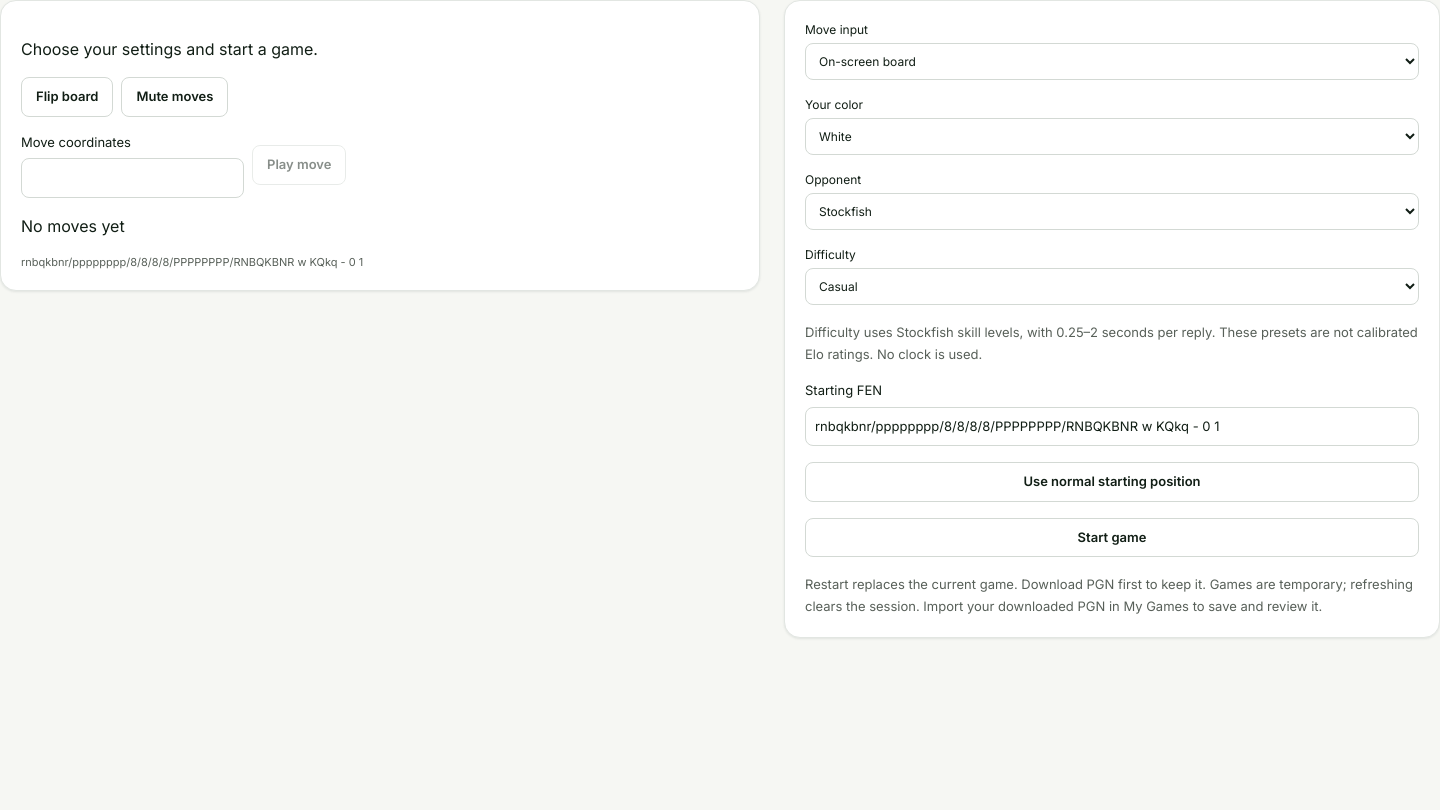
Test: plays only the human side, rejects illegal moves, receives one engine reply, and resigns
Click the button "Start game" at coordinates (1112, 537), box [805, 518, 1419, 557]
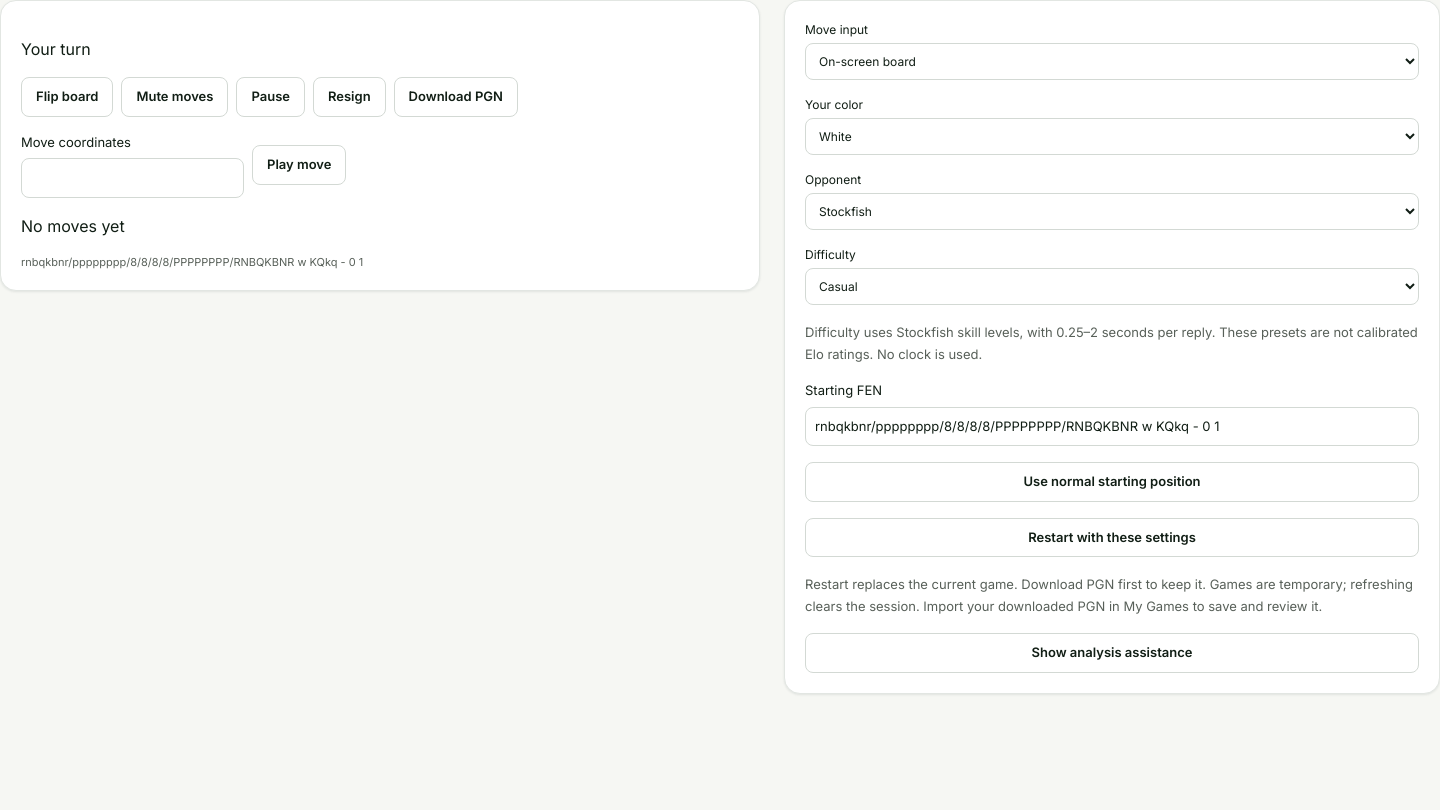
Type "e2e5" into the field labelled "Move coordinates" at coordinates (132, 178), box [21, 158, 244, 198]
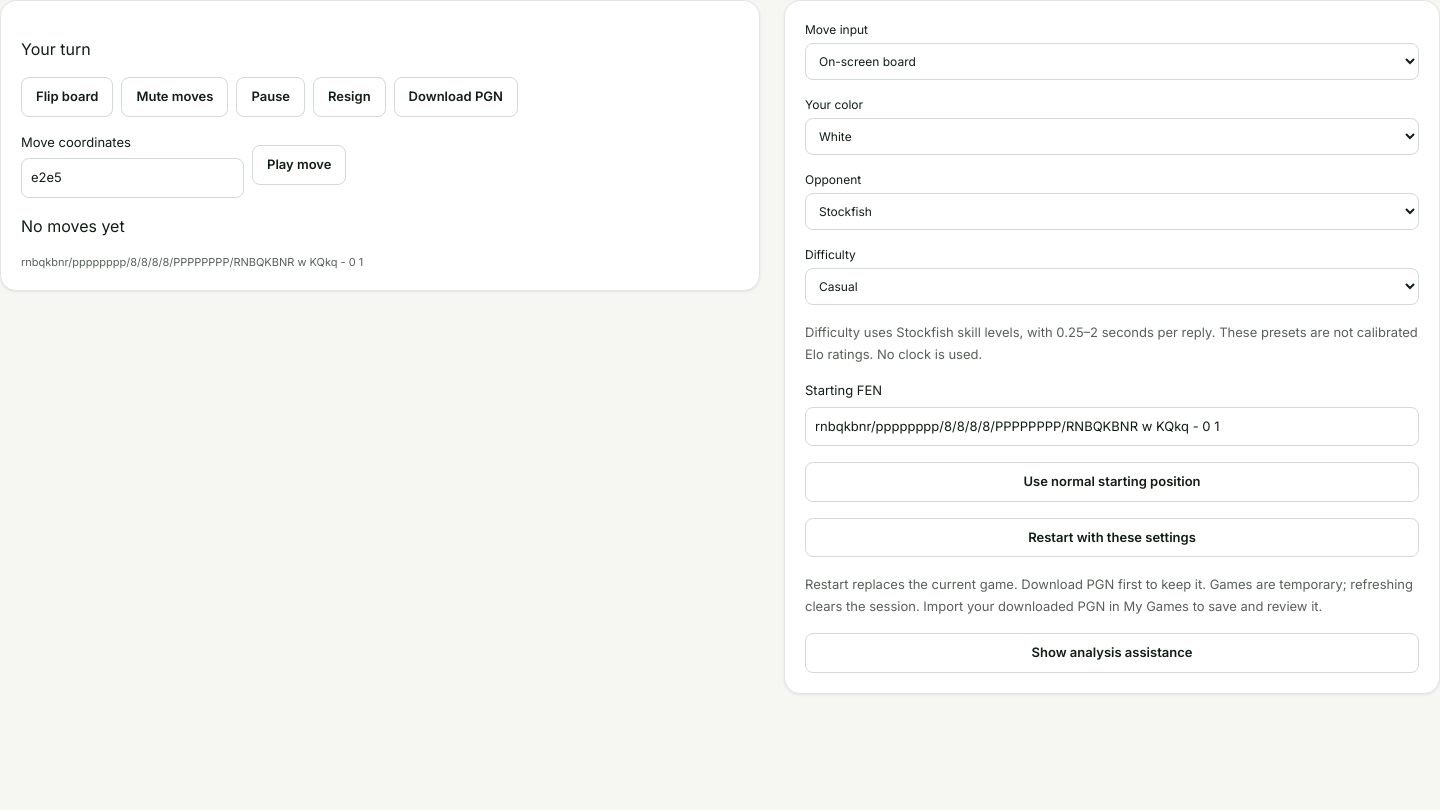
Click the button "Play move" at coordinates (299, 165), box [252, 145, 346, 185]
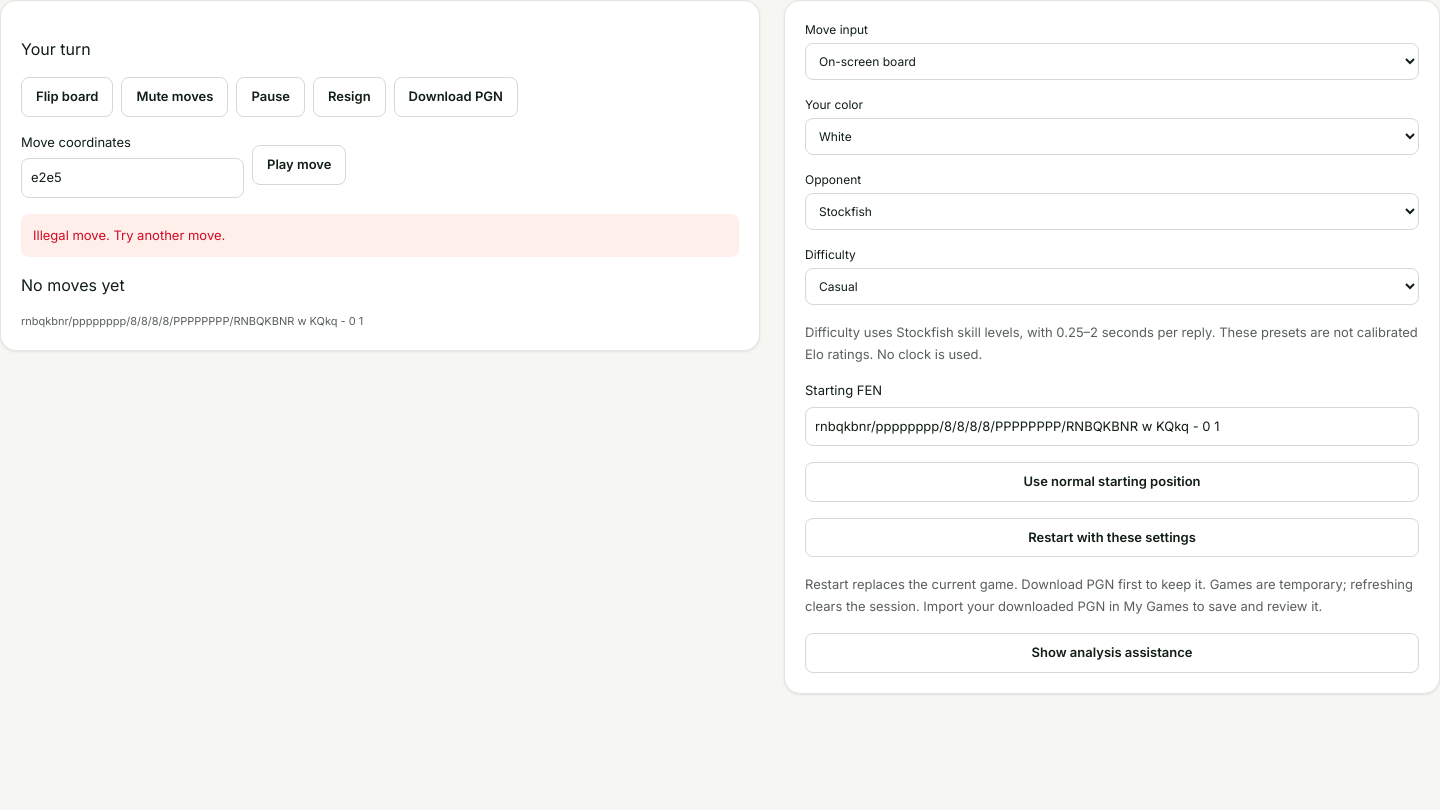
Result: the message "Illegal move. Try another move." is shown at [21, 214, 739, 257]
Replace the text in the field labelled "Move coordinates" with "e2e4" at coordinates (132, 178), box [21, 158, 244, 198]
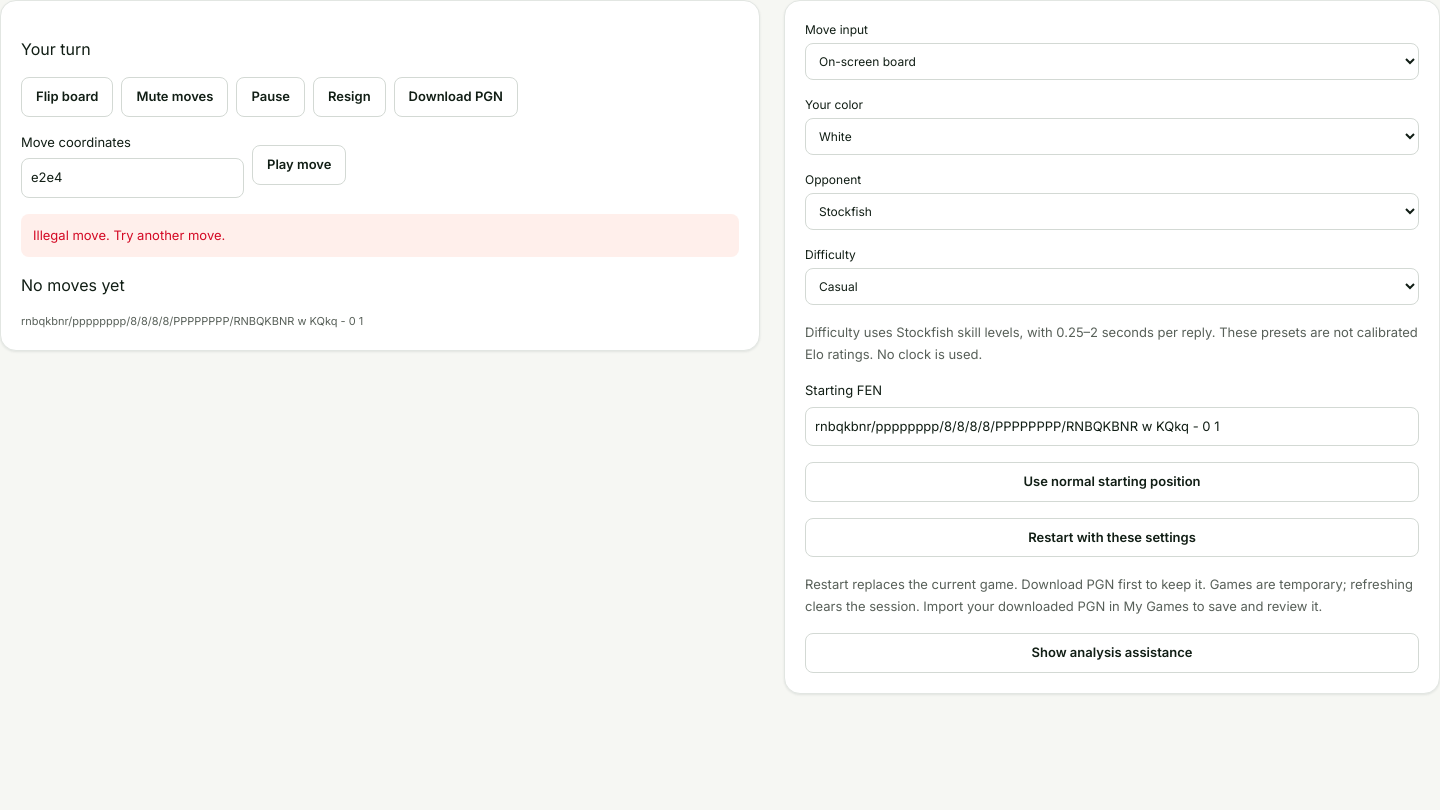
Click the button "Play move" at coordinates (299, 165), box [252, 145, 346, 185]
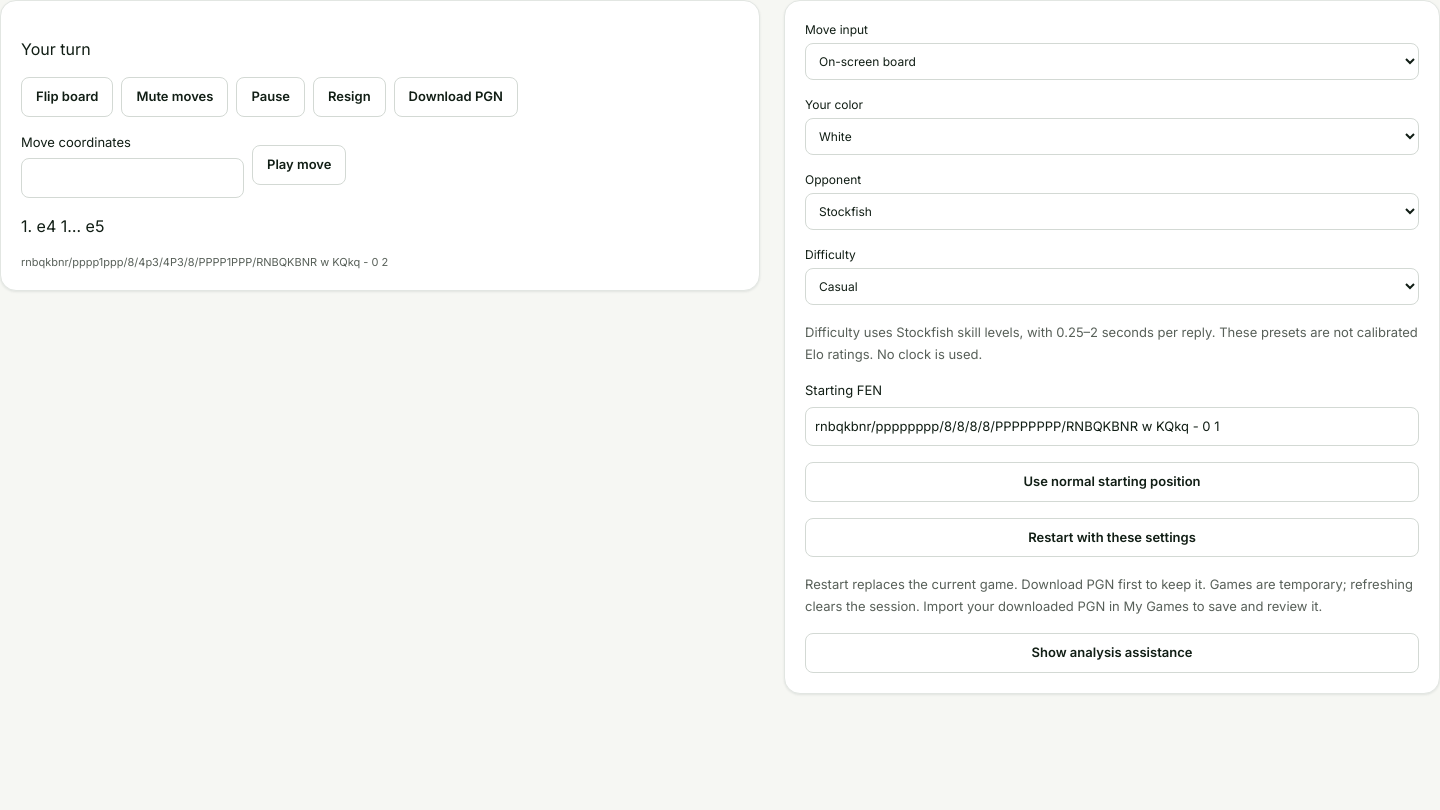
Result: the text named "Game moves" shows "e5" at [21, 216, 104, 236]
Click the button "Resign" at coordinates (349, 97), box [313, 77, 386, 116]
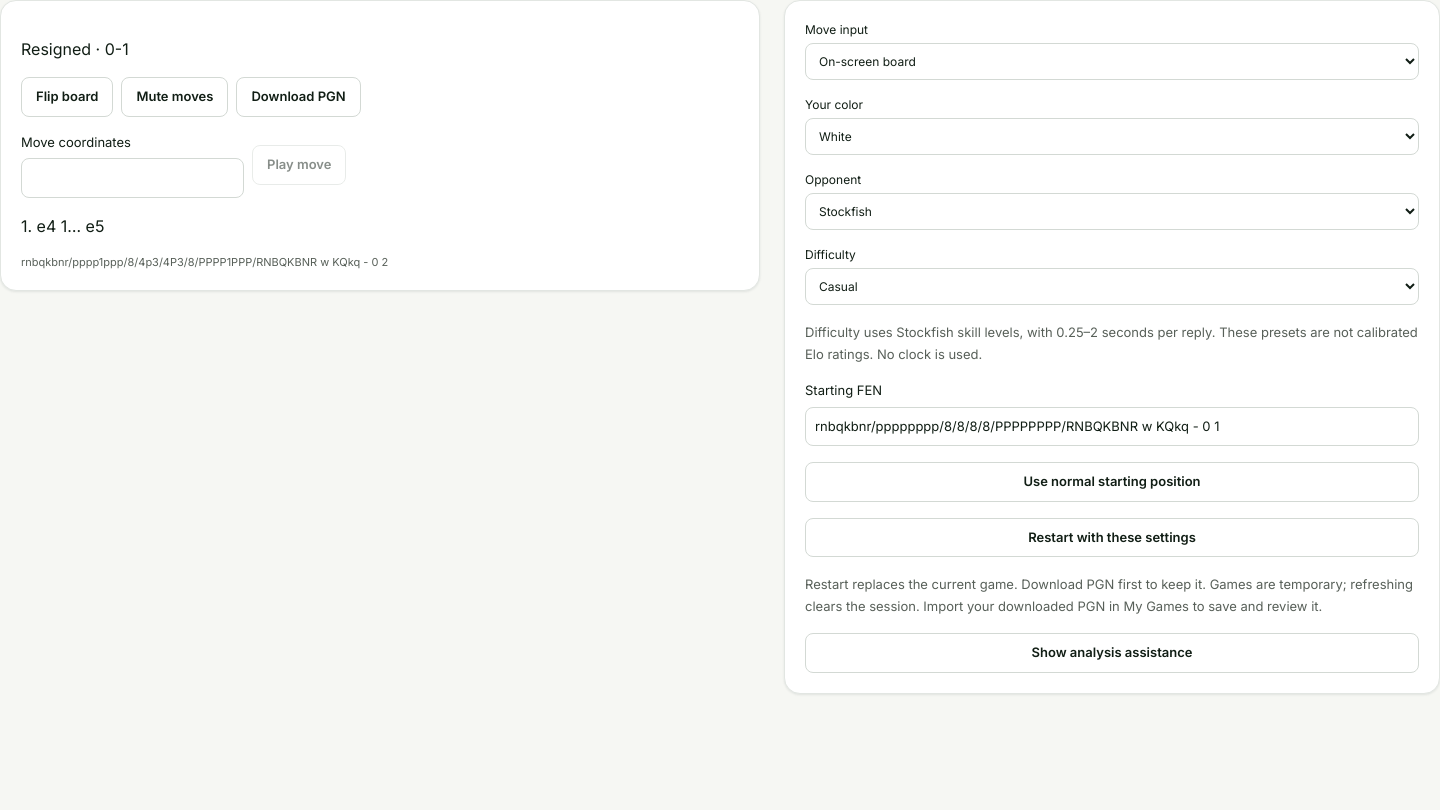
Result: the message named "Game status" reads "Resigned · 0-1" at [21, 39, 129, 59]
Result: the button "Play move" is disabled at [252, 145, 346, 185]
